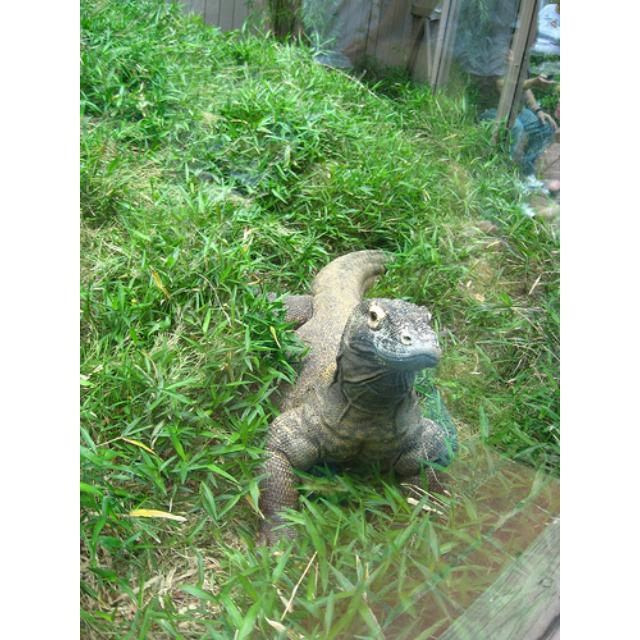KomodoDragon: (250, 245, 457, 549)
